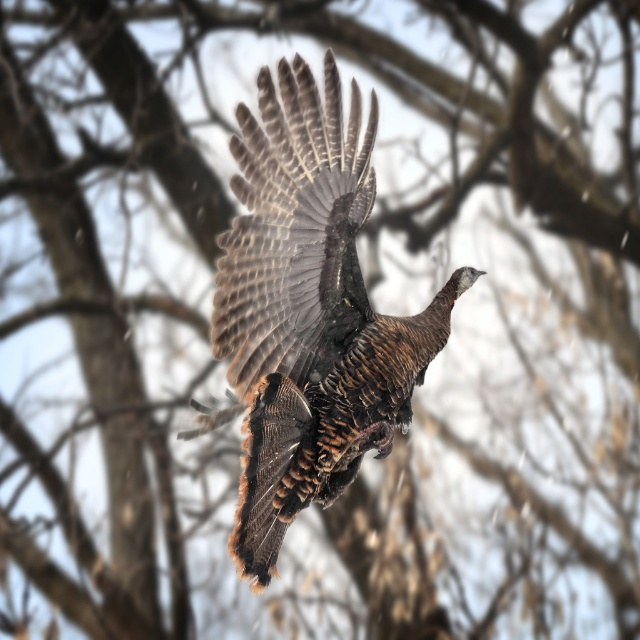Eagle: (210, 47, 486, 594)
